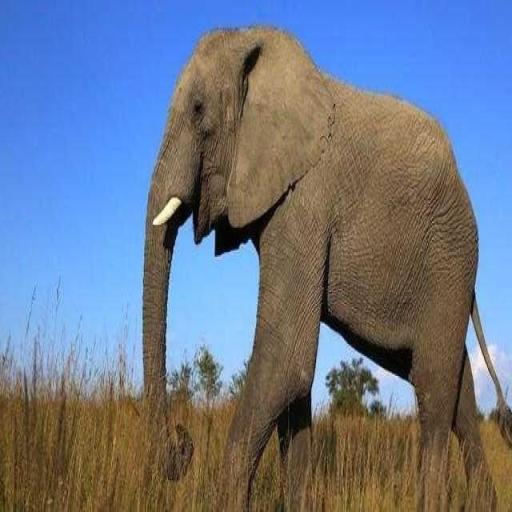Elephant: (141, 23, 511, 511)
